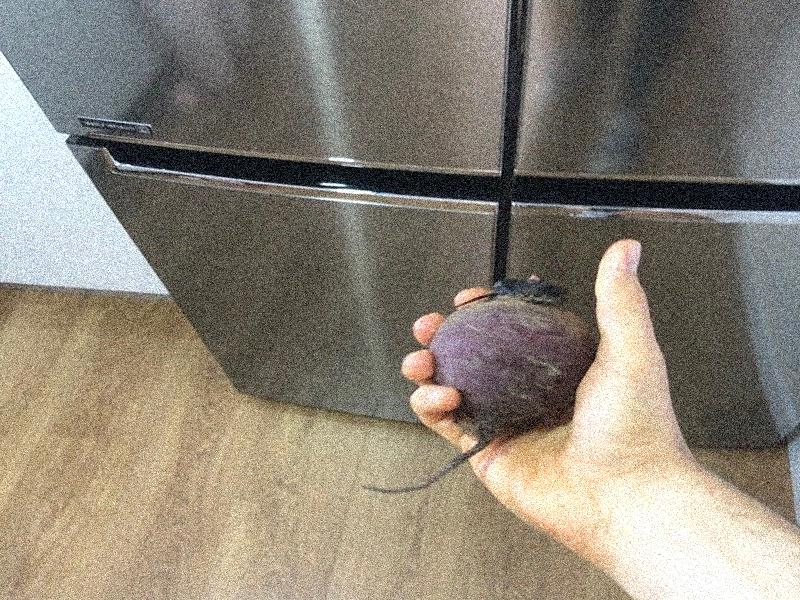Beet: (359, 276, 596, 491)
